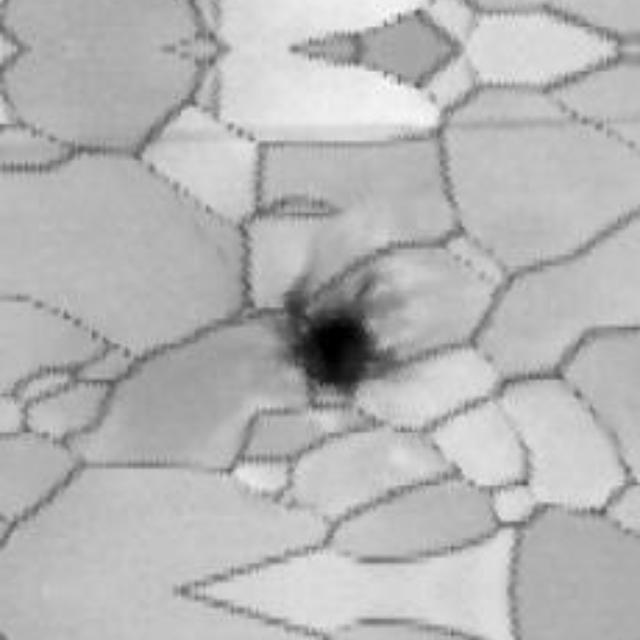good_void: (267, 265, 404, 408)
